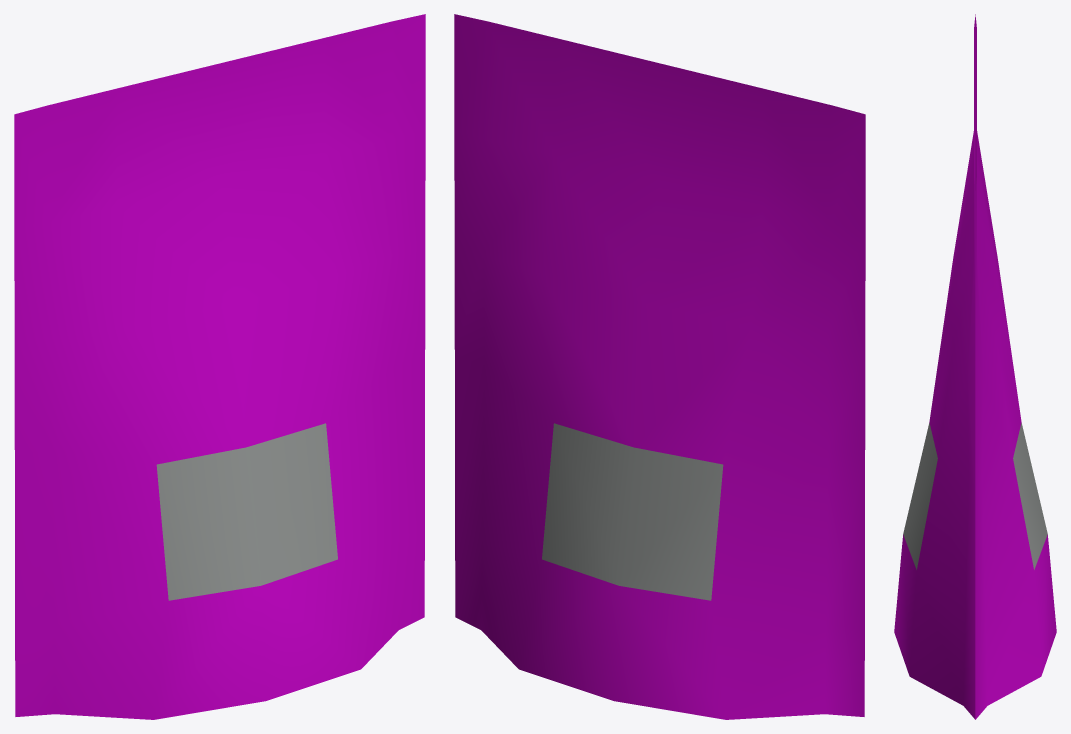
The picture shows the model from 3 angles, left to right: view 1: azimuth 30°, elevation 25°; view 2: azimuth 150°, elevation 25°; view 3: azimuth 270°, elevation 25°; orthographic projection. The views are drawn at different scales.
Parts seen in each view (by area): view 1: G:\FFXIV-MapTools\exports\x6t1\bg\ex5\01_xkt_x6\twn\x6t1\bgp; view 2: G:\FFXIV-MapTools\exports\x6t1\bg\ex5\01_xkt_x6\twn\x6t1\bgp; view 3: G:\FFXIV-MapTools\exports\x6t1\bg\ex5\01_xkt_x6\twn\x6t1\bgp.
Boxes of the visible parts, x1,y1,x2,y2 form: G:\FFXIV-MapTools\exports\x6t1\bg\ex5\01_xkt_x6\twn\x6t1\bgp: (14,14,425,719); G:\FFXIV-MapTools\exports\x6t1\bg\ex5\01_xkt_x6\twn\x6t1\bgp: (454,14,865,719); G:\FFXIV-MapTools\exports\x6t1\bg\ex5\01_xkt_x6\twn\x6t1\bgp: (894,14,1056,719).
Size of the model in its own units: 0.3701 by 0.5181 by 0.144.
